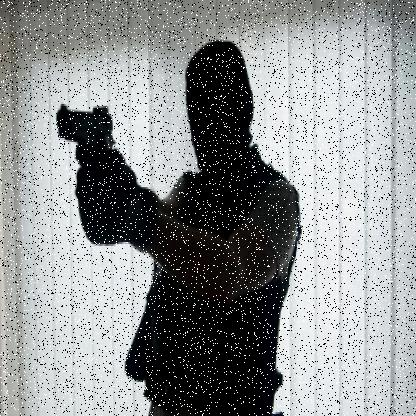pistol: (56, 98, 117, 157)
